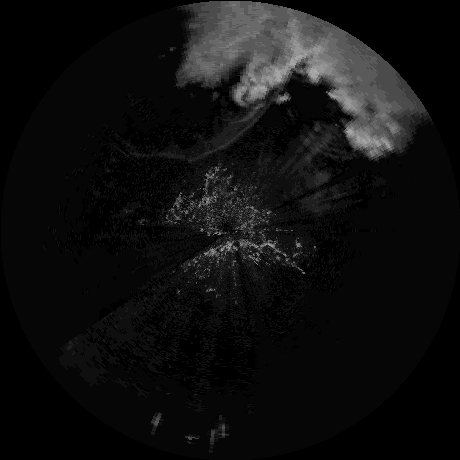frontgust: (201, 85, 286, 157)
